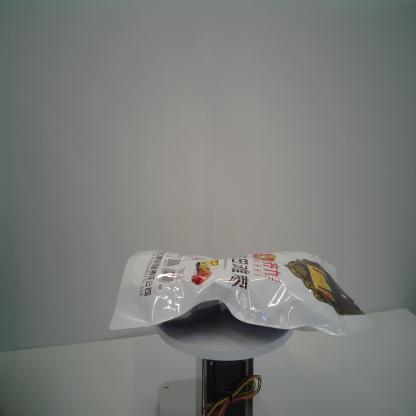Dried Food: (108, 249, 380, 338)
